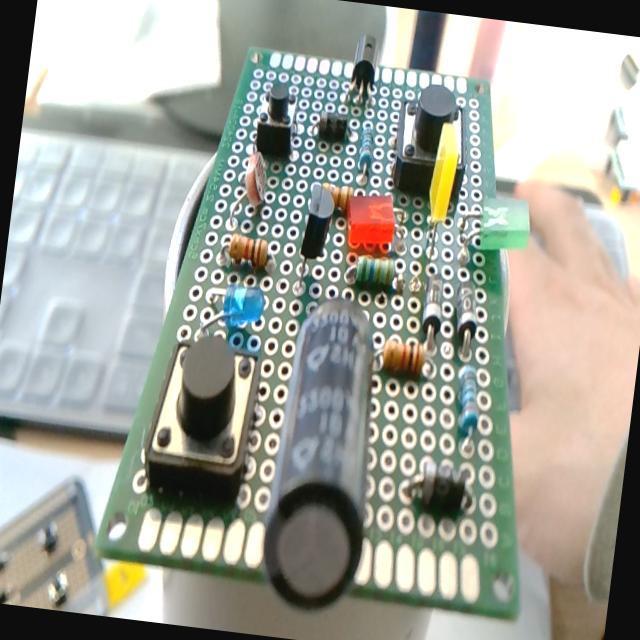Electrolytic capacitor: (255, 296, 391, 616)
cds: (229, 148, 273, 228)
diode: (397, 454, 472, 516), (450, 283, 482, 357), (418, 274, 448, 351), (316, 109, 348, 142)
led: (450, 162, 537, 258), (418, 124, 461, 274), (199, 278, 265, 336), (342, 189, 398, 254)
resistor: (450, 362, 484, 434), (380, 338, 426, 380), (352, 254, 398, 289), (227, 232, 269, 268), (356, 120, 376, 182), (320, 182, 354, 214)
switch: (142, 328, 266, 504), (386, 80, 476, 206), (252, 77, 300, 160)
transistor: (292, 185, 334, 296), (344, 26, 385, 106)
